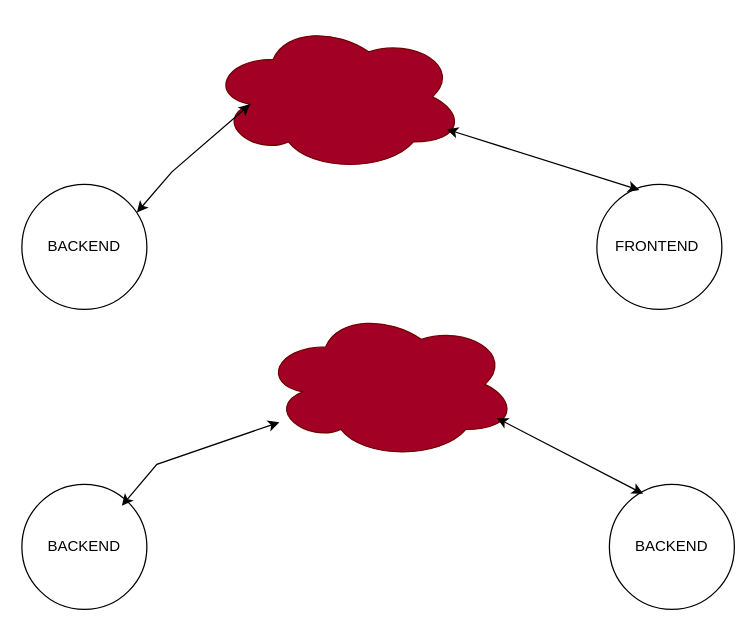
Some shapes in this 756 by 631 pixel diagram are drawn without their labels. Here are the shapes that lost their labels. From the top down, the centre of each, then its label:
point 336,96: student list api
point 389,383: student list registry
